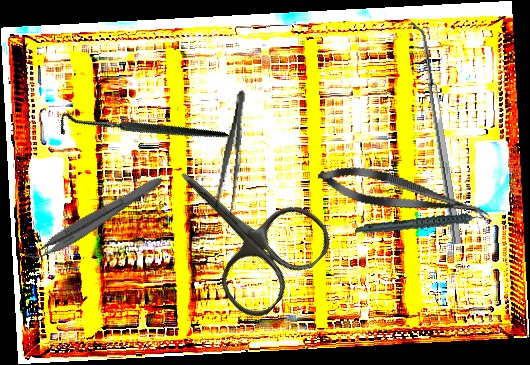Dressing Forceps: (211, 88, 253, 222)
Handpiece: (355, 197, 493, 252)
Hook Surgical: (53, 53, 230, 211)
Iris Scissors: (140, 128, 341, 328)
Micro Scissor: (314, 157, 494, 232)
Spatula Surgical: (409, 20, 462, 246)
Tissue Forceps: (21, 166, 166, 271)
